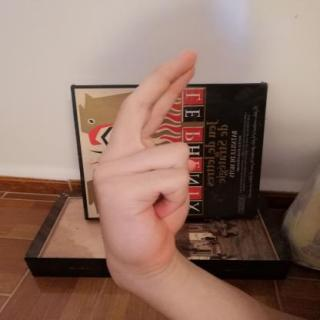ZAY: (84, 43, 208, 284)
